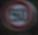Speed Limit -50-: (0, 0, 37, 34)
